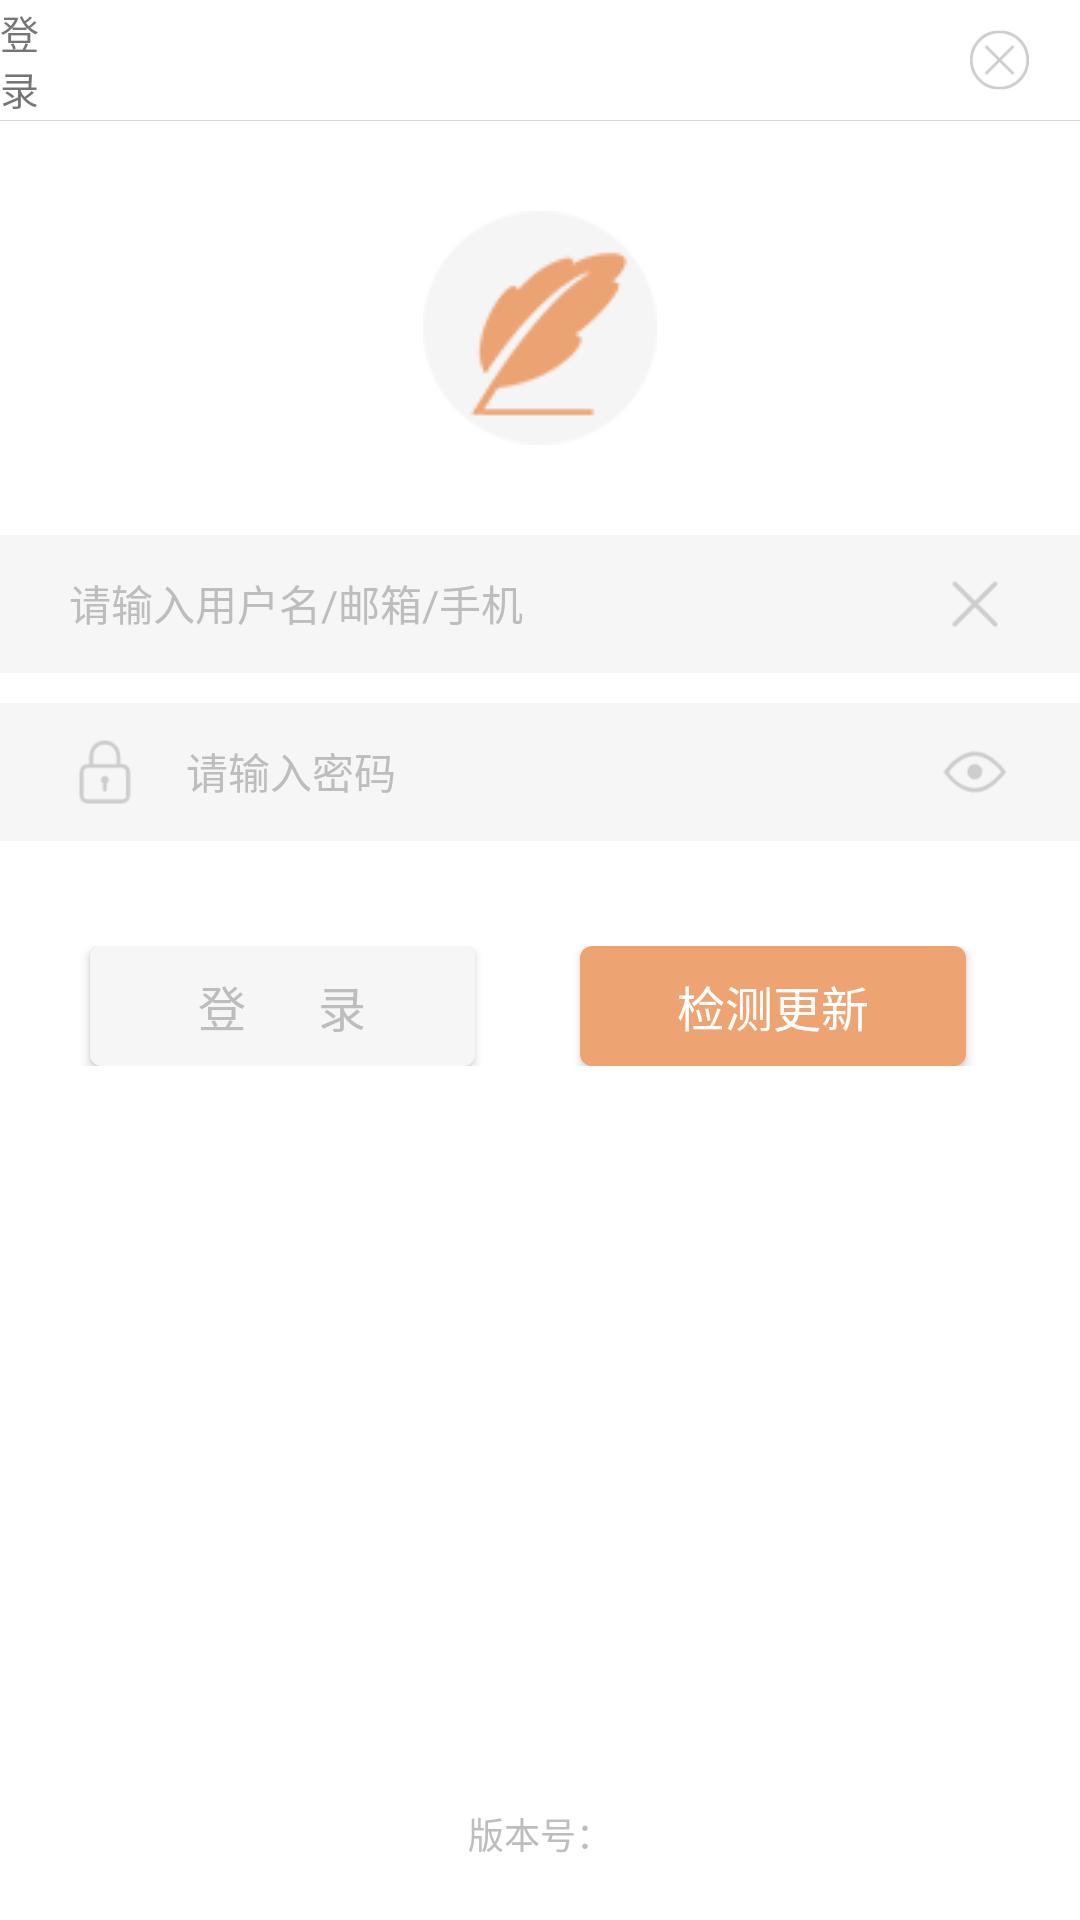

Icons on this 1080px×1920px Android screen, each with the point to tap as point (x, y):
login close: point (999, 60)
login sign: point (549, 334)
